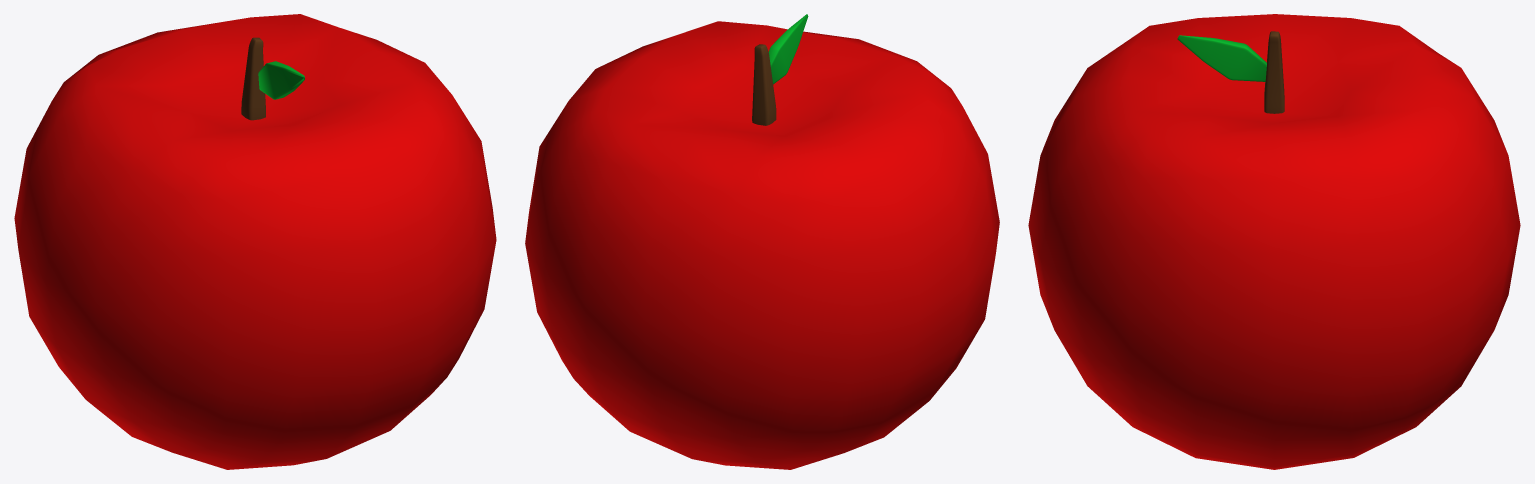
The model's file is apple.glb.
The picture shows the model from 3 angles, left to right: view 1: azimuth 30°, elevation 25°; view 2: azimuth 150°, elevation 25°; view 3: azimuth 270°, elevation 25°; orthographic projection. The views are drawn at different scales.
Parts seen in each view (by area): view 1: Cube-col, Cube.001-col, Cube.002-col; view 2: Cube-col, Cube.001-col, Cube.002-col; view 3: Cube-col, Cube.002-col, Cube.001-col.
Part boxes in pixels (x1,y1,x2,y2): Cube-col: (14, 14, 496, 469); Cube.001-col: (241, 37, 265, 120); Cube.002-col: (258, 61, 304, 99); Cube-col: (525, 21, 999, 469); Cube.001-col: (752, 44, 776, 125); Cube.002-col: (768, 14, 808, 84); Cube-col: (1028, 14, 1520, 469); Cube.002-col: (1177, 35, 1266, 81); Cube.001-col: (1264, 31, 1284, 113).
Bounding box in the file's own units: 2.29 × 2.14 × 2.29.
